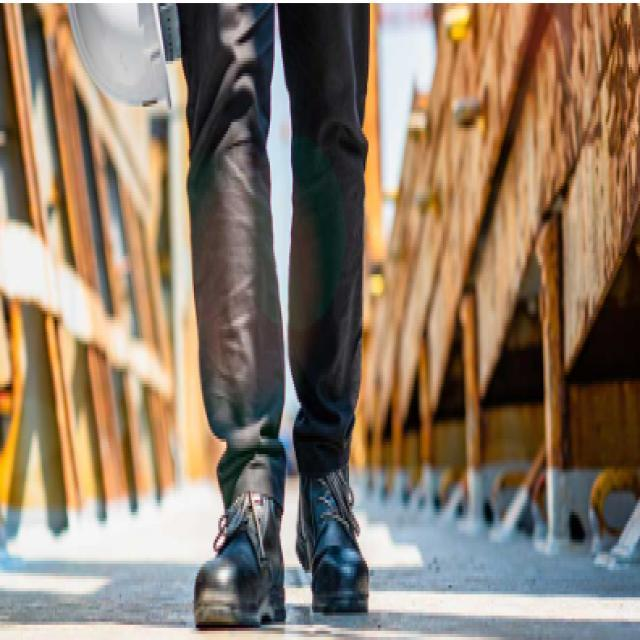boots: (189, 442, 373, 632)
